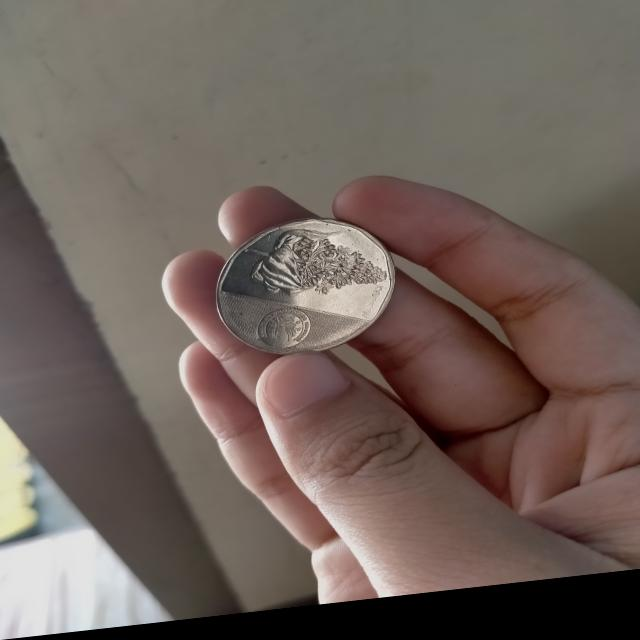10_New_Back: (226, 224, 394, 314)
